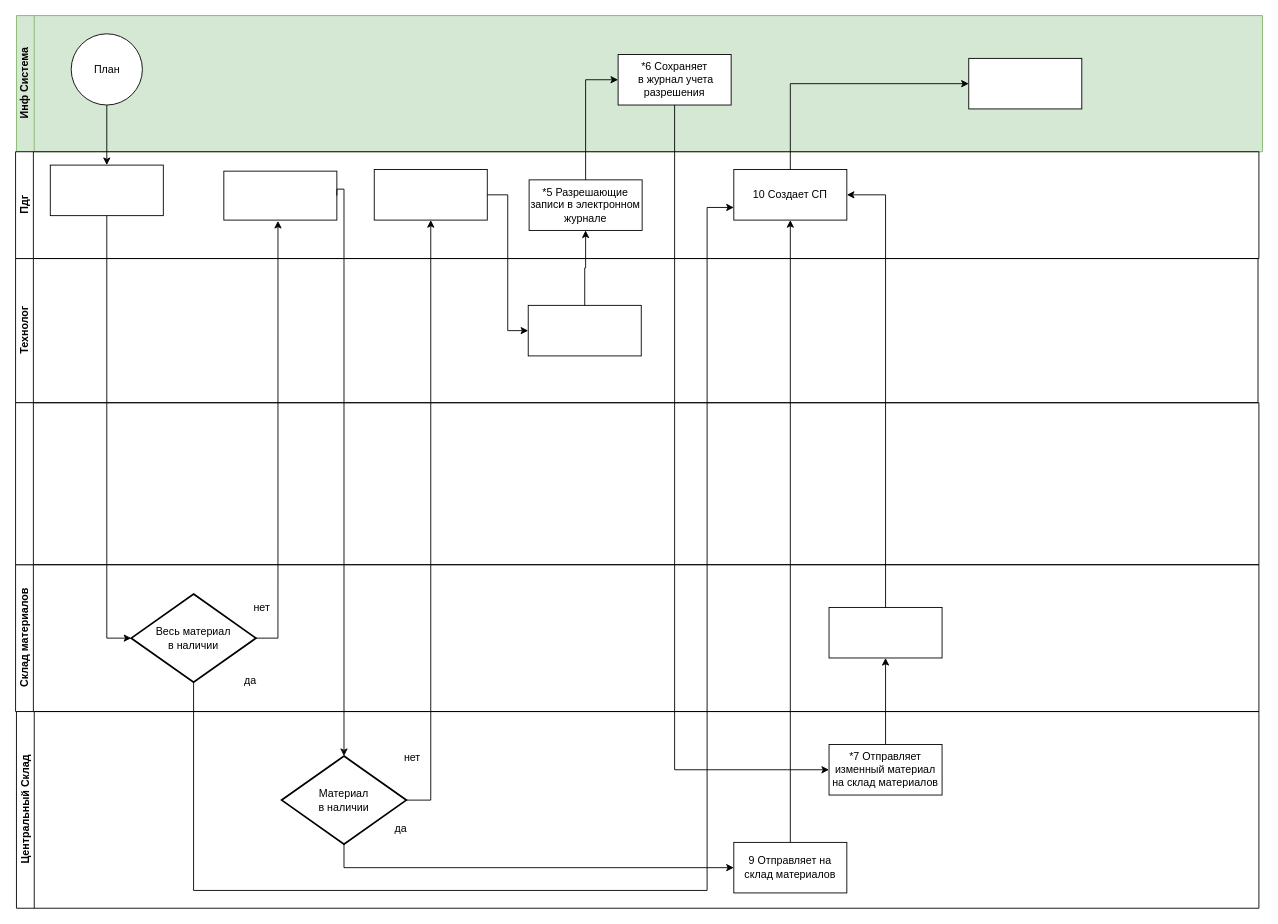
The diagram is 1278 pixels wide and 924 high, and some of its shapes have lost their labels. The centre of each missing label's shape, as x and y in pixels:
* 4 Рассмотрение предложения по замене материала: (x=584, y=330)
*2 Формирует заявку на материала на центральный склад: (x=280, y=195)
*3 Заявка на замену материала: (x=430, y=194)
*8 Получает изменный материал: (x=885, y=632)
1 Запрашивает наличие материала на складе: (x=106, y=190)
11 Сохраняет сопр паспорт: (x=1025, y=83)
Рабочий: (x=637, y=483)
